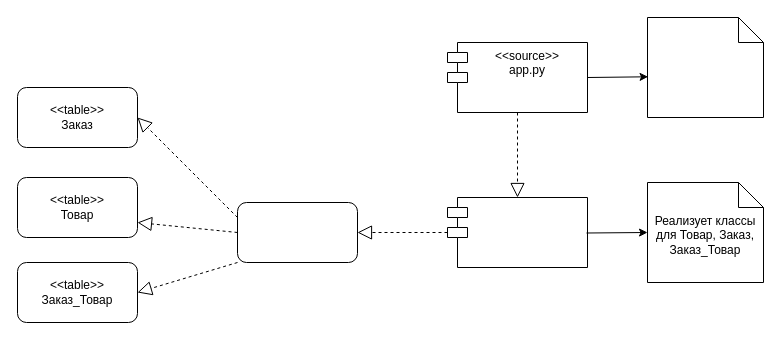
Image size: 781x340. Some labels were removed from this diagram. The shapes that lost their labels are listed below. From the top down, each one's centre as x and y in pixels, then its label:
At (x=705, y=67): "Реализует методы для маршрутов, бизнес-логики и обработки данных".
At (x=297, y=232): "coffeeshop.db".
At (x=517, y=232): "<<source>> models.py".
